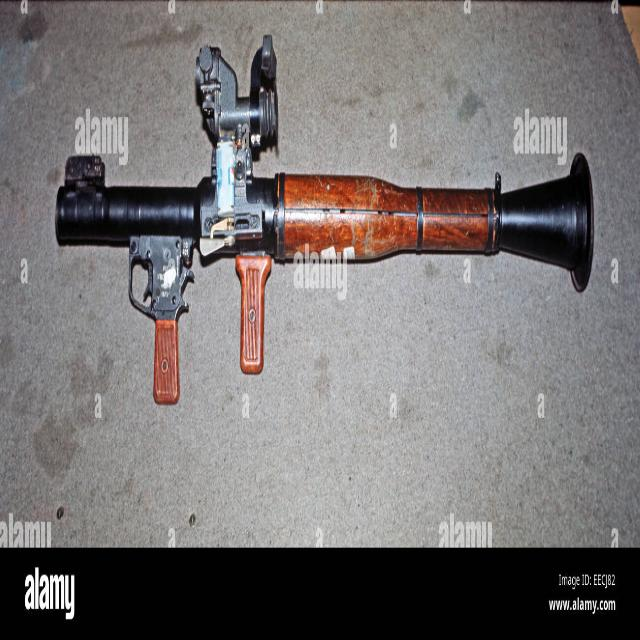Gun: (54, 78, 616, 435)
